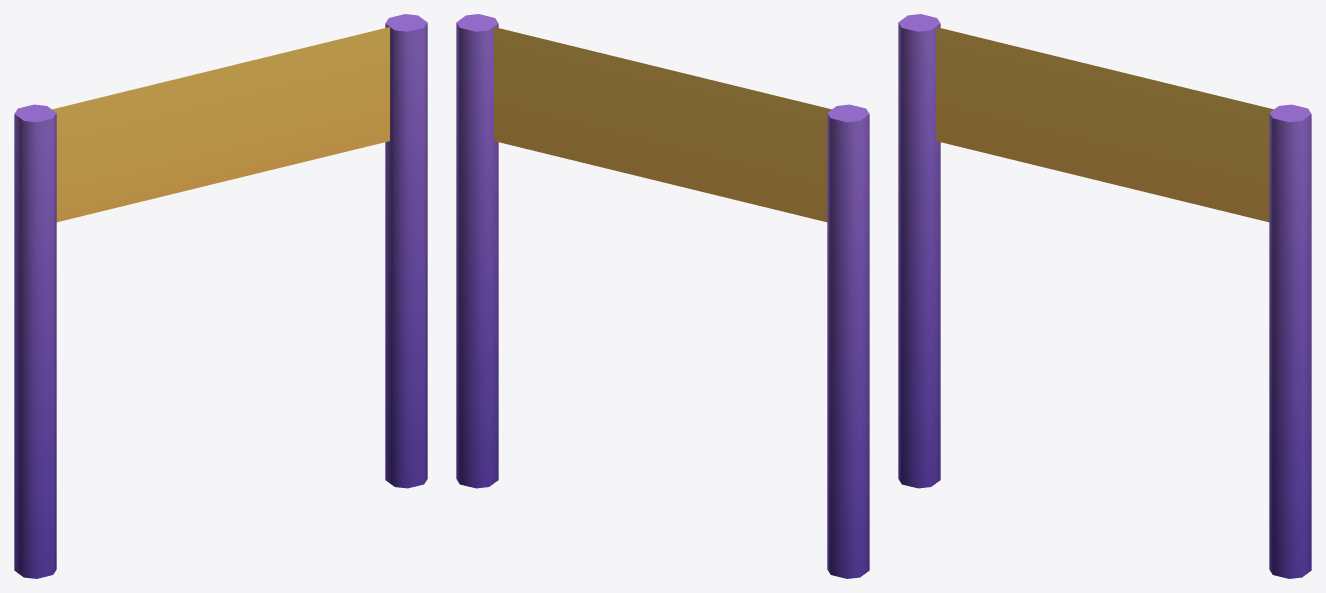
Rendered from kenney-marble-banner-high.glb.
The picture shows the model from 3 angles, left to right: view 1: azimuth 30°, elevation 25°; view 2: azimuth 150°, elevation 25°; view 3: azimuth 330°, elevation 25°; orthographic projection.
Parts seen in each view (by area): view 1: banner-high; view 2: banner-high; view 3: banner-high.
Boxes of the visible parts, x1,y1,x2,y2 form: banner-high: (14,14,427,578); banner-high: (456,14,869,578); banner-high: (898,14,1311,578).
Bounding box in the file's own units: 0.925 × 1 × 0.075.
Materials: 1 (1 with a texture image).
